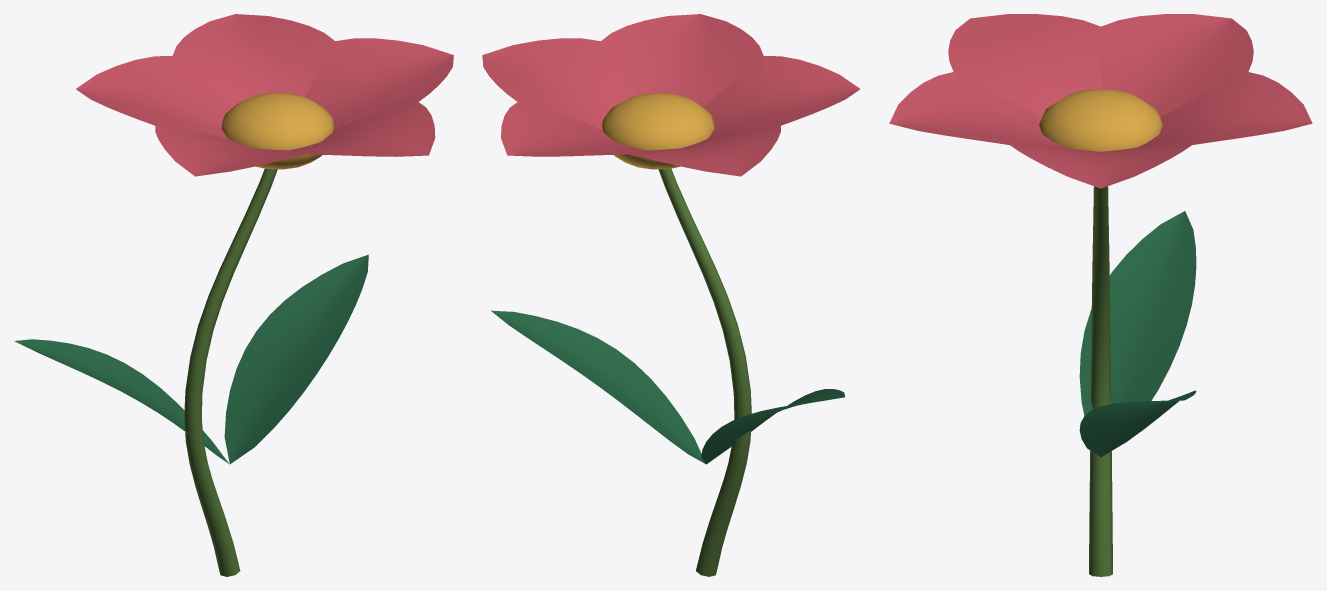
File: flower_lilac.glb
3 renders of one model, left to right at view 1: azimuth 30°, elevation 25°; view 2: azimuth 150°, elevation 25°; view 3: azimuth 270°, elevation 25°, orthographic. The views are drawn at different scales.
Visible parts, largest first — view 1: flower_lilac; view 2: flower_lilac; view 3: flower_lilac.
Boxes of the visible parts, x1,y1,x2,y2 form: flower_lilac: (14, 14, 453, 576); flower_lilac: (482, 14, 860, 576); flower_lilac: (889, 14, 1312, 576).
Size of the model in its own units: 0.6366 by 0.7094 by 0.5313.
